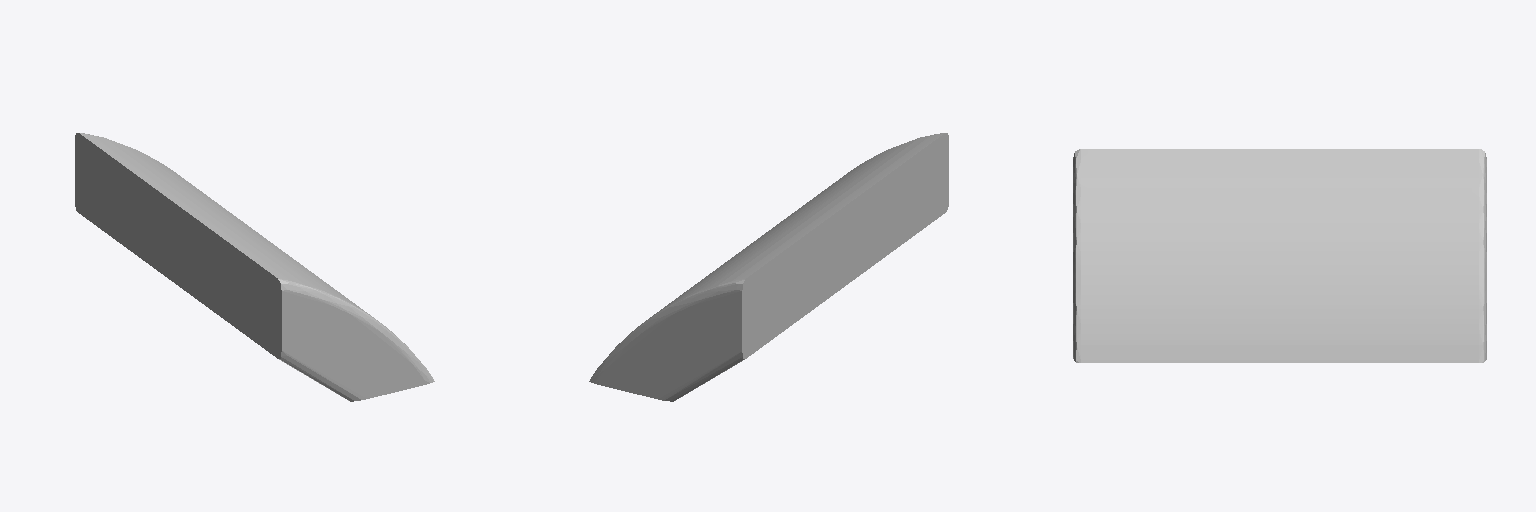
The model's file is Cylinder_with_Hole_collision_10.obj.
3 renders of one model, left to right at view 1: azimuth 30°, elevation 25°; view 2: azimuth 150°, elevation 25°; view 3: azimuth 270°, elevation 25°, orthographic.
Bounding box in the file's own units: 61.94 × 52.77 × 143.